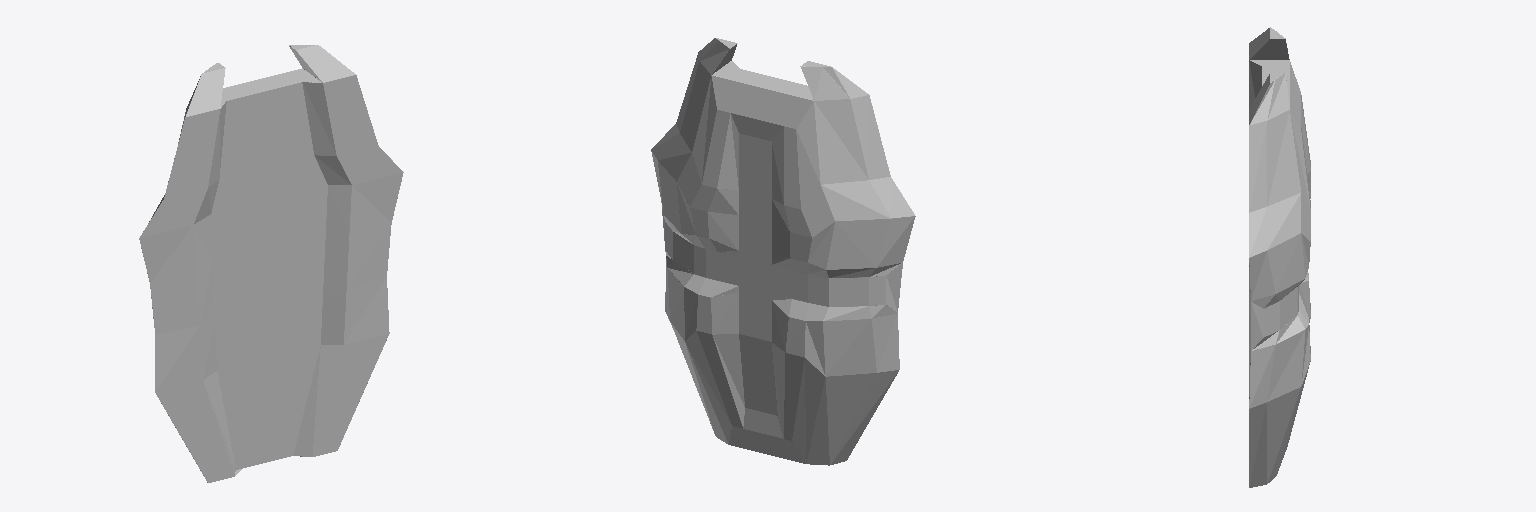
Rendered from tank_shield.obj.
3 views of the same model, side by side, from view 1: azimuth 30°, elevation 25°; view 2: azimuth 150°, elevation 25°; view 3: azimuth 270°, elevation 25° (orthographic).
Parts seen in each view (by area): view 1: Tank_Weapon:pCube18; view 2: Tank_Weapon:pCube18; view 3: Tank_Weapon:pCube18.
Boxes of the visible parts, x1=… form: Tank_Weapon:pCube18: x1=139, y1=45, x2=403, y2=482; Tank_Weapon:pCube18: x1=651, y1=38, x2=915, y2=465; Tank_Weapon:pCube18: x1=1249, y1=27, x2=1310, y2=487.
Size of the model in its own units: 1.08 by 1.57 by 0.218.